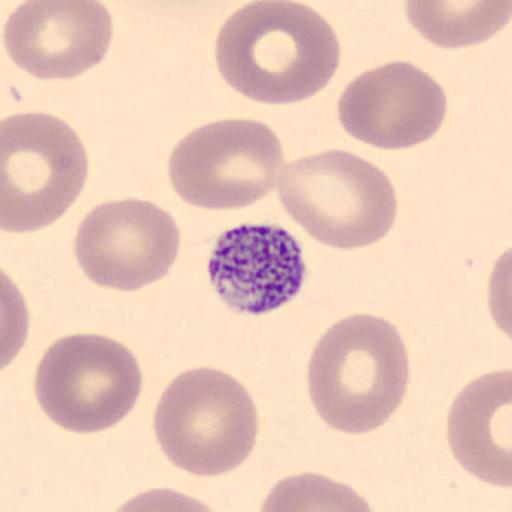Platelet: (204, 220, 311, 317)
RBC: (213, 0, 343, 106), (305, 311, 412, 437), (274, 146, 400, 252), (152, 364, 260, 478), (32, 331, 144, 435), (168, 117, 286, 213), (2, 108, 90, 236), (72, 195, 181, 294), (336, 59, 450, 153), (2, 0, 115, 82), (445, 368, 512, 488), (403, 0, 511, 49), (254, 469, 376, 512), (105, 485, 231, 512), (0, 270, 30, 372), (486, 243, 512, 345)
